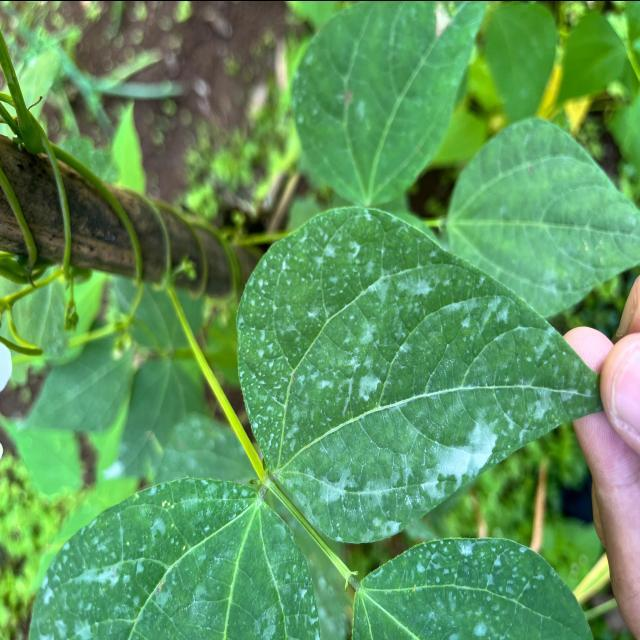embun tepung: (417, 403, 529, 495)
